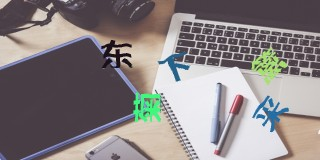下: (156, 52, 190, 82)
东: (99, 38, 134, 72)
篱: (251, 48, 288, 84)
菊: (130, 92, 162, 123)
采: (253, 94, 289, 133)
